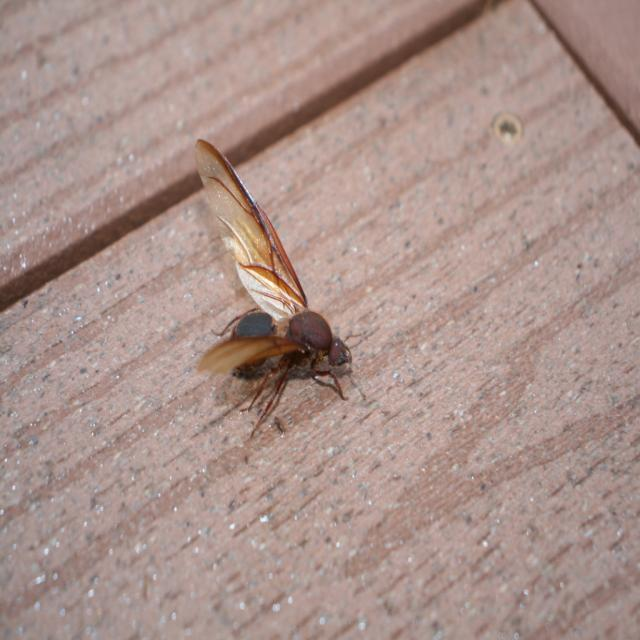Alive-Female-Alate: (193, 138, 370, 445)
